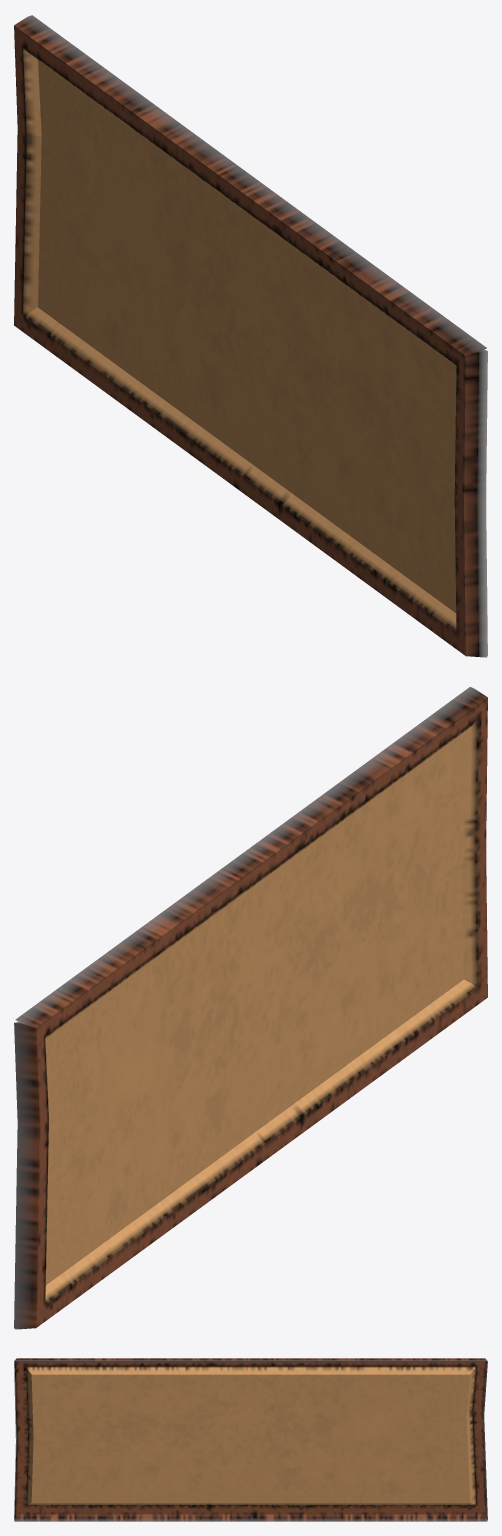
The model's file is signmodel.fbx.
3 renders of one model, top to bottom at view 1: azimuth 30°, elevation 25°; view 2: azimuth 150°, elevation 25°; view 3: azimuth 270°, elevation 25°, orthographic. The views are drawn at different scales.
Parts seen in each view (by area): view 1: Sign; view 2: Sign; view 3: Sign.
Part boxes in pixels (box(x1,y1,x2,y2)): Sign: box(14, 15, 487, 657); Sign: box(14, 687, 487, 1329); Sign: box(14, 1358, 487, 1521).
Bounding box in the file's own units: 2.31 × 34.55 × 92.57.
